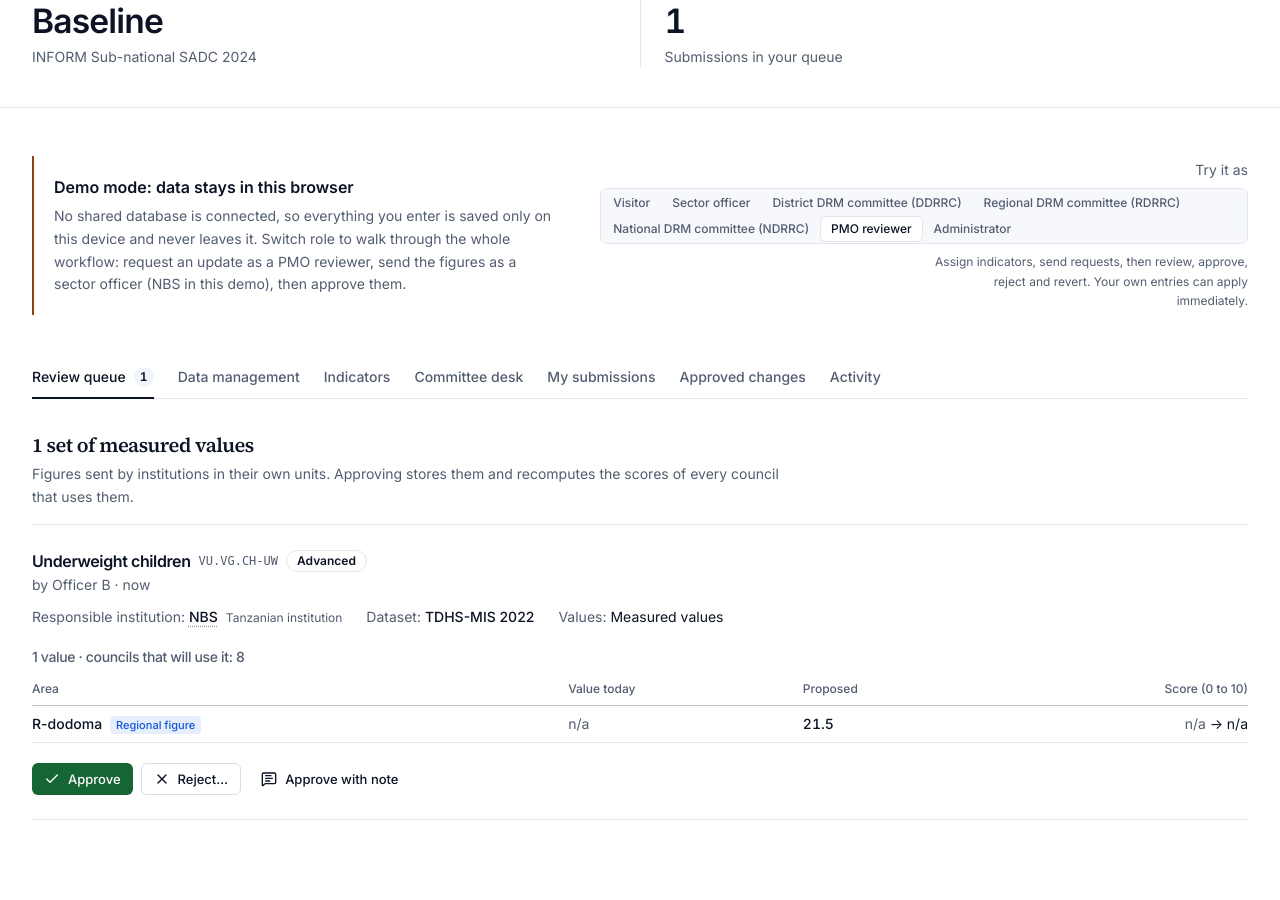
Test case: DataPortalPage (local demo mode) › lets a PMO reviewer approve measured values, which then feed the scores
(page scrolled)
Expected: the text "by Officer B · now" is shown, 32,576 -> 150,593
Click the button "Approve" at (82, 779), box 32,763 -> 132,795
(page scrolled)
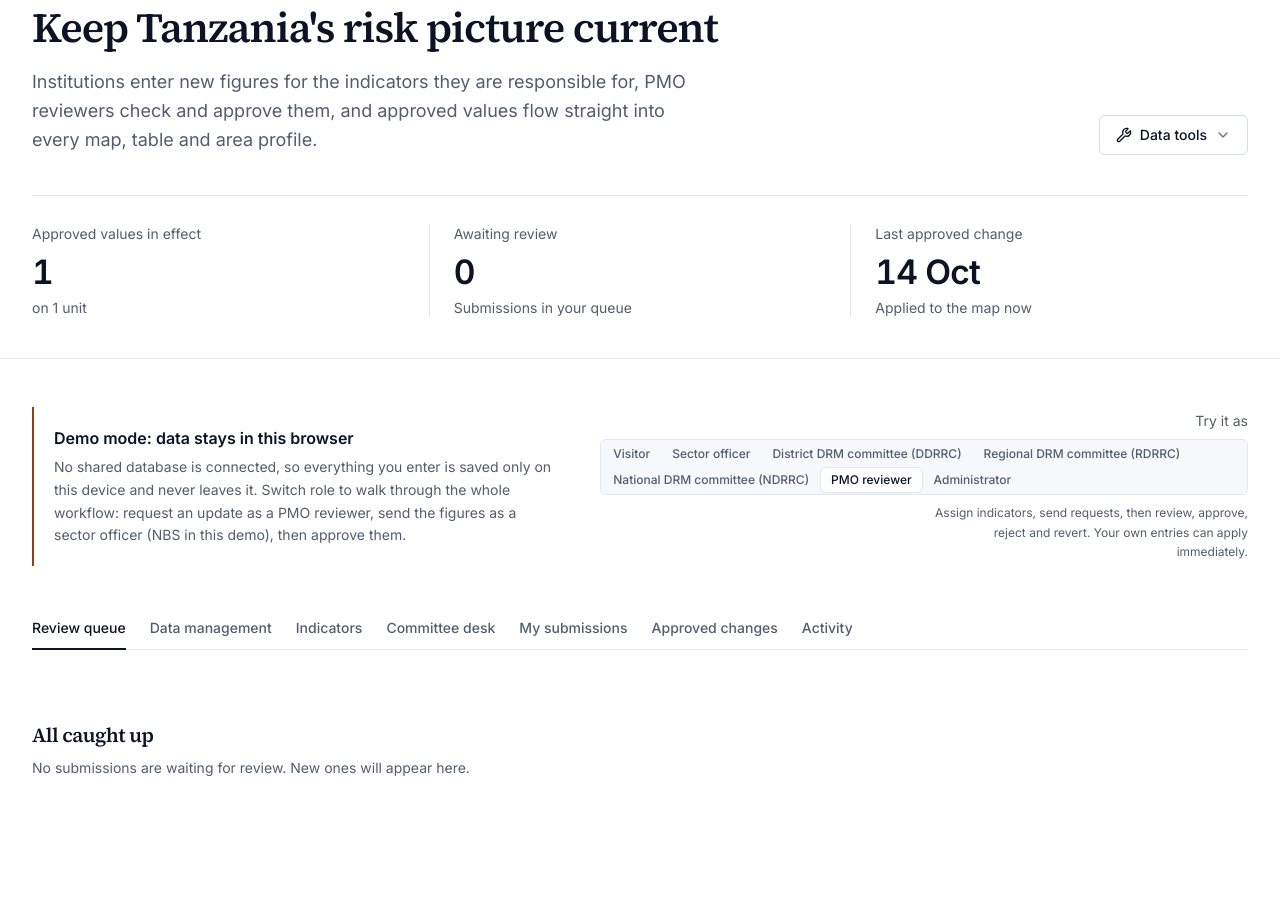
Expected: the heading "All caught up" is shown, 32,721 -> 153,749
